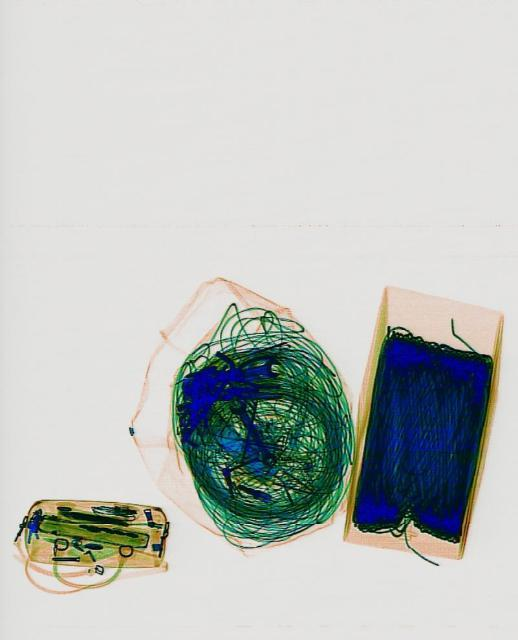Wrench: (225, 392, 279, 472), (218, 356, 280, 384)
